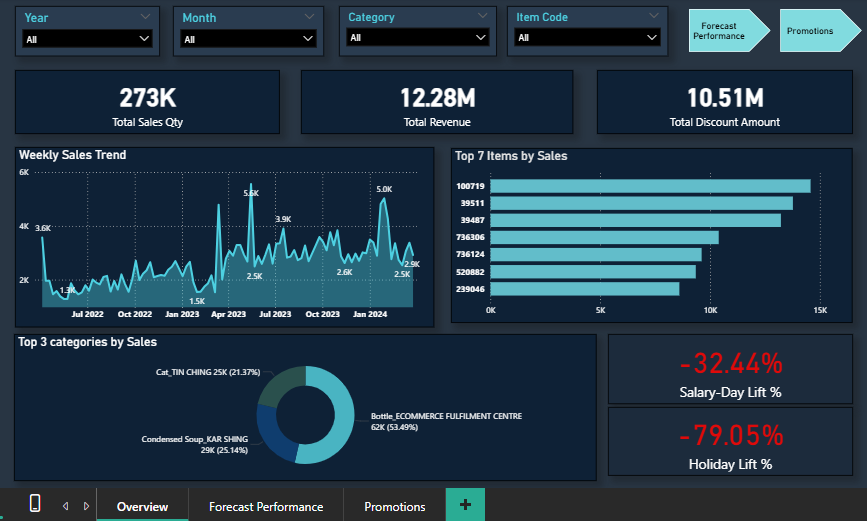

This screenshot's page, from the dashboard's own definition file:
{"tool":"powerbi","page":{"name":"Overview","canvas":[1280,720],"ordinal":0},"visuals":[{"type":"slicer","fields":{"Values":["Main.time_line.Variation.Date Hierarchy.Year"]},"box":[24.5,11,213.5,73.6],"z":0},{"type":"slicer","fields":{"Values":["Main.Anchor_Forecast"]},"box":[500.6,11,231.9,73.6],"z":1000},{"type":"slicer","fields":{"Values":["Main.Item Code"]},"box":[748.5,11,236.8,73.6],"z":2000},{"type":"slicer","fields":{"Values":["Main.time_line.Variation.Date Hierarchy.Month"]},"box":[257.7,11,222.1,73.6],"z":3000},{"type":"card","fields":{"Values":["Main.Total Sales Qty"]},"box":[24.3,105.1,389.5,94.3],"z":4000},{"type":"card","fields":{"Values":["Main.Total Revenue"]},"box":[444.7,105.1,400.3,94.3],"z":5000},{"type":"card","fields":{"Values":["Main.Total Discount Amount"]},"box":[880,105.1,376,94.3],"z":6000},{"type":"lineChart","title":"Weekly Sales Trend","fields":{"Y":["Sum(Main.Sales Quantity)"],"Category":["Main.time_line"]},"box":[24.3,218.3,615.9,265.5],"z":7000},{"type":"barChart","title":"Top 7 Items by Sales","fields":{"Category":["Main.Item Code"],"Y":["Sum(Main.Sales Quantity)"]},"box":[665.7,221,590.3,257.4],"z":8000},{"type":"donutChart","title":"Top 3 categories by Sales","fields":{"Category":["Main.Anchor_Forecast"],"Y":["Main.Total Sales Qty"]},"box":[23.3,493.3,856.4,216],"z":9000},{"type":"card","fields":{"Values":["Main.Salary-Day Lift %"]},"box":[895.7,493.3,359.5,103.1],"z":10000},{"type":"card","fields":{"Values":["Main.Holiday Lift %"]},"box":[895.7,601.2,359.5,100.6],"z":11000},{"type":"pageNavigator","box":[1014.7,16,255.2,63.8],"z":12000}]}

Visuals, with their boxes on the page's 1280x720 design canvas (x1, y1, x2, y2). These are canvas units, not pixel positions in the 867x521 screenshot, which may show the page scaled, cropped or inside an application window:
slicer - Main.time_line.Variation.Date Hierarchy.Year: <region>24, 11, 238, 85</region>
slicer - Main.Anchor_Forecast: <region>501, 11, 732, 85</region>
slicer - Main.Item Code: <region>748, 11, 985, 85</region>
slicer - Main.time_line.Variation.Date Hierarchy.Month: <region>258, 11, 480, 85</region>
card - Main.Total Sales Qty: <region>24, 105, 414, 199</region>
card - Main.Total Revenue: <region>445, 105, 845, 199</region>
card - Main.Total Discount Amount: <region>880, 105, 1256, 199</region>
"Weekly Sales Trend" lineChart: <region>24, 218, 640, 484</region>
"Top 7 Items by Sales" barChart: <region>666, 221, 1256, 478</region>
"Top 3 categories by Sales" donutChart: <region>23, 493, 880, 709</region>
card - Main.Salary-Day Lift %: <region>896, 493, 1255, 596</region>
card - Main.Holiday Lift %: <region>896, 601, 1255, 702</region>
pageNavigator: <region>1015, 16, 1270, 80</region>
